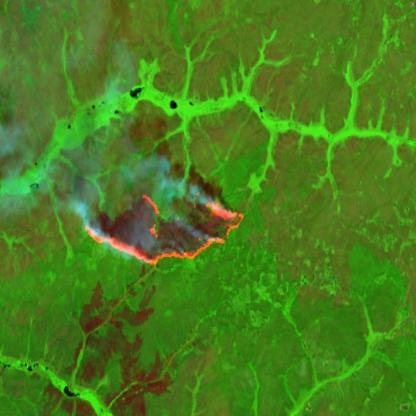fire: (82, 187, 246, 266)
